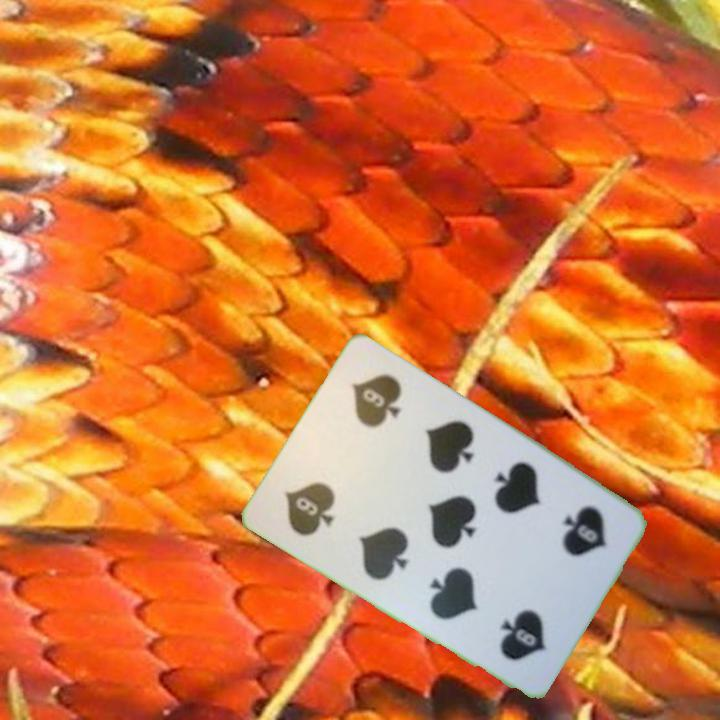s_9.png: (509, 476, 633, 604), (259, 432, 383, 560)
